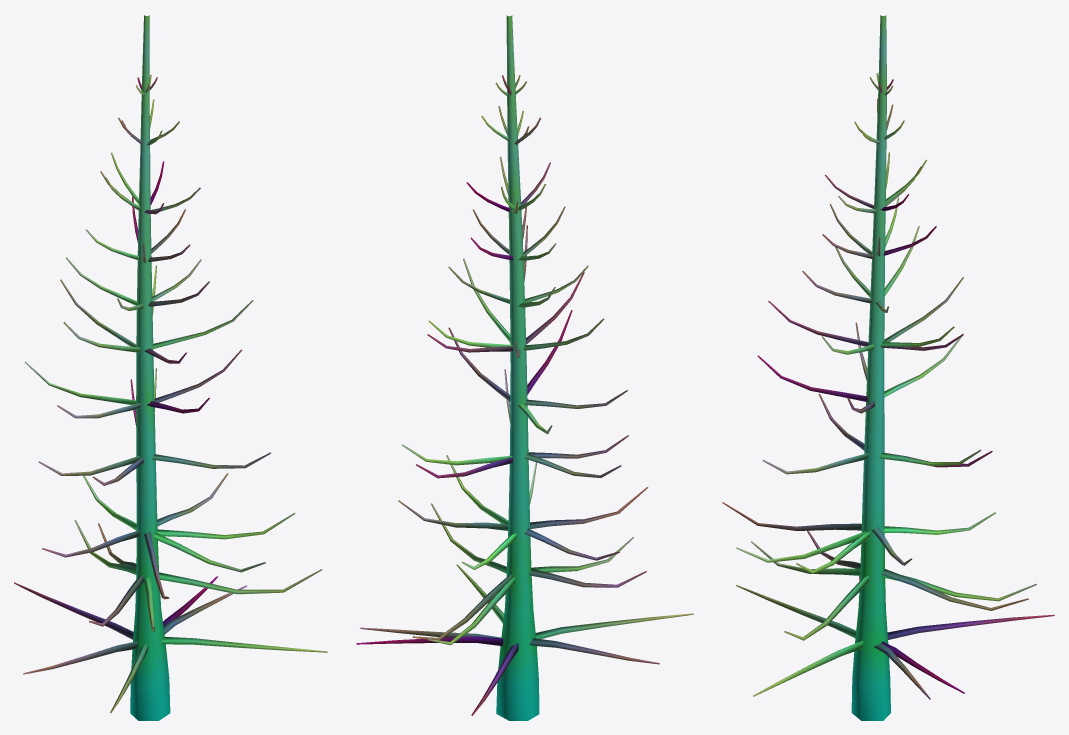
File: spruce-young-b.glb
3 views of the same model, side by side, from view 1: azimuth 30°, elevation 25°; view 2: azimuth 150°, elevation 25°; view 3: azimuth 270°, elevation 25° (orthographic).
Parts seen in each view (by area): view 1: bark; view 2: bark; view 3: bark.
Boxes of the visible parts, x1=… form: bark: x1=14, y1=15, x2=327, y2=720; bark: x1=356, y1=15, x2=693, y2=720; bark: x1=722, y1=15, x2=1054, y2=720.
Bounding box in the file's own units: 2.16 × 5.45 × 2.35.
